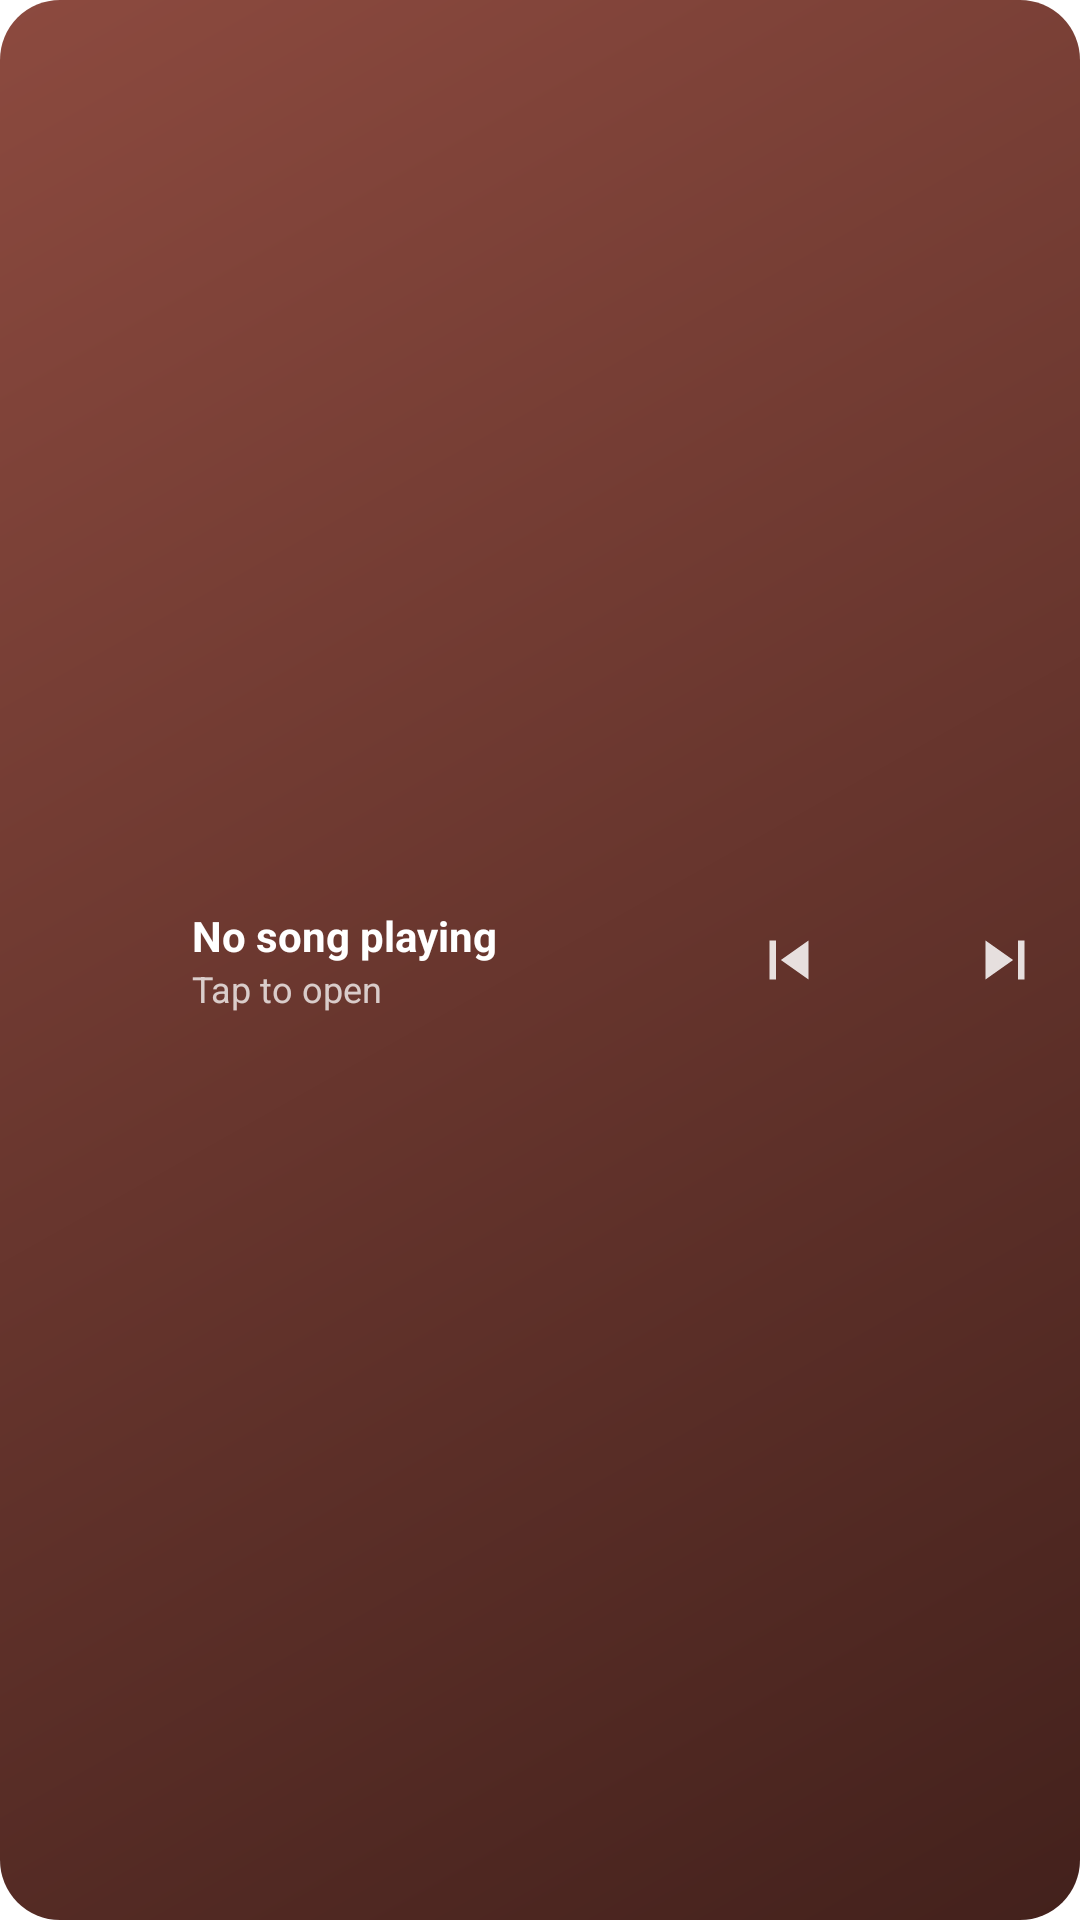

Named icons in this screenshot (1080×1920) and their bounding boxes, (x1, y1, x2, y2):
Next: (985, 940, 1025, 980)
Previous: (769, 940, 809, 980)
